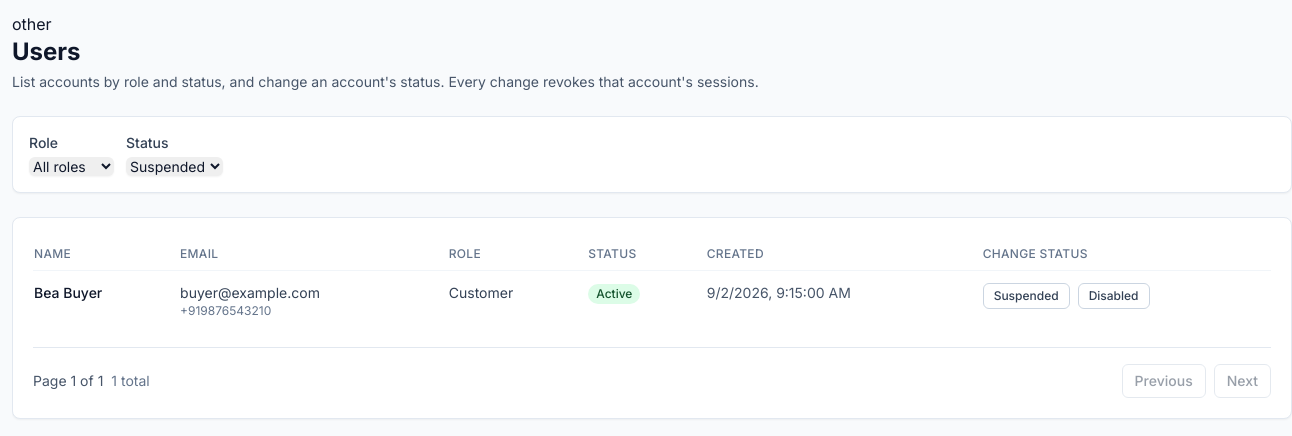
Test case: AdminUsersPage › status filter seeded from the query string › re-applies the filter when the query string changes under a mounted page
Check: the dropdown labelled "Status" shows "Suspended", box [126,157,223,176]
Click the link "other" at (32, 24), box [12,14,52,34]
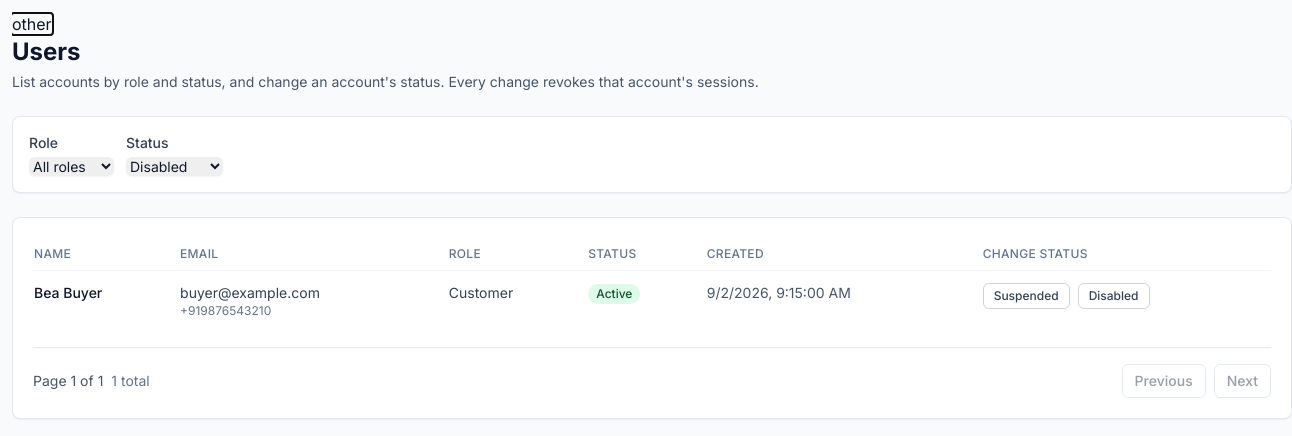
Check: the dropdown labelled "Status" shows "Disabled", box [126,157,223,176]
